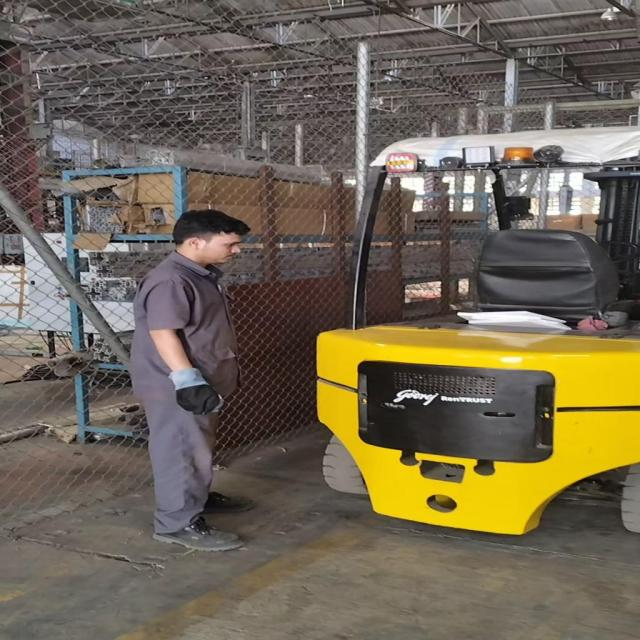Gloves-Detection: (169, 368, 224, 417)
